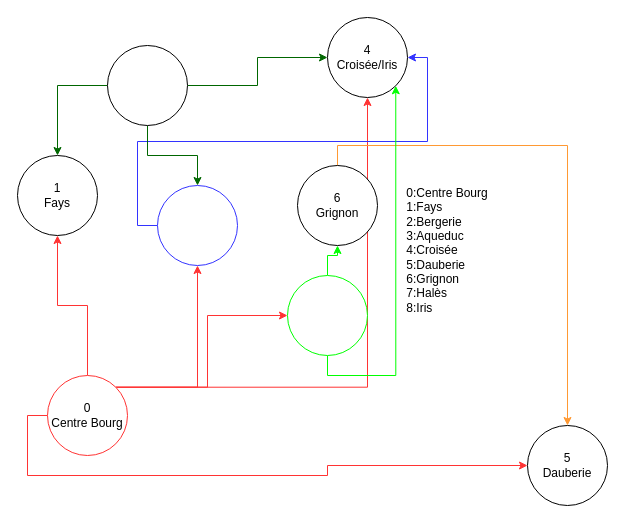
The diagram is 625 pixels wide and 523 high, and some of its shapes have lost their labels. Each missing label, with the box of its shape:
2 Bergerie: (156, 184, 238, 266)
3 Aqueduc: (106, 44, 188, 126)
7 Halès: (286, 274, 368, 356)
